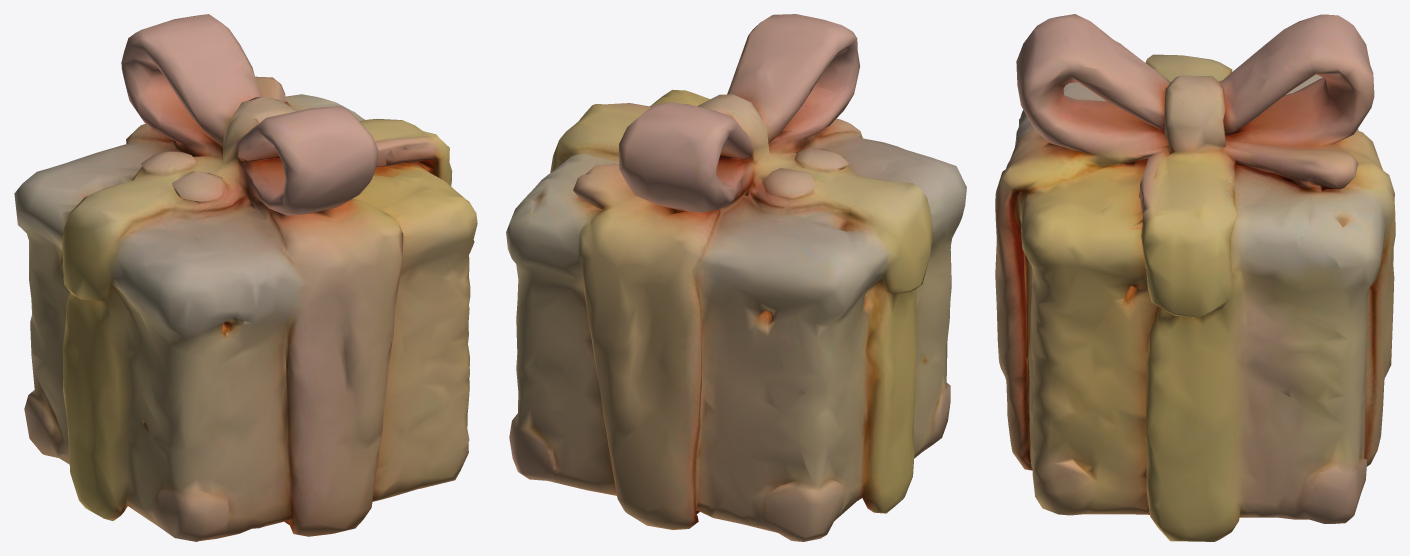
File: present.glb
3 renders of one model, left to right at view 1: azimuth 30°, elevation 25°; view 2: azimuth 150°, elevation 25°; view 3: azimuth 270°, elevation 25°, orthographic. The views are drawn at different scales.
Parts seen in each view (by area): view 1: tripo_node_b68fdb3a-f619-4ae3-9a31-43adc41935e7; view 2: tripo_node_b68fdb3a-f619-4ae3-9a31-43adc41935e7; view 3: tripo_node_b68fdb3a-f619-4ae3-9a31-43adc41935e7.
Boxes of the visible parts, x1,y1,x2,y2 form: tripo_node_b68fdb3a-f619-4ae3-9a31-43adc41935e7: (14, 14, 477, 541); tripo_node_b68fdb3a-f619-4ae3-9a31-43adc41935e7: (506, 14, 966, 541); tripo_node_b68fdb3a-f619-4ae3-9a31-43adc41935e7: (995, 14, 1395, 541).
Bounding box in the file's own units: 0.9331 × 1 × 0.8463.
1 material, 1 textured.
